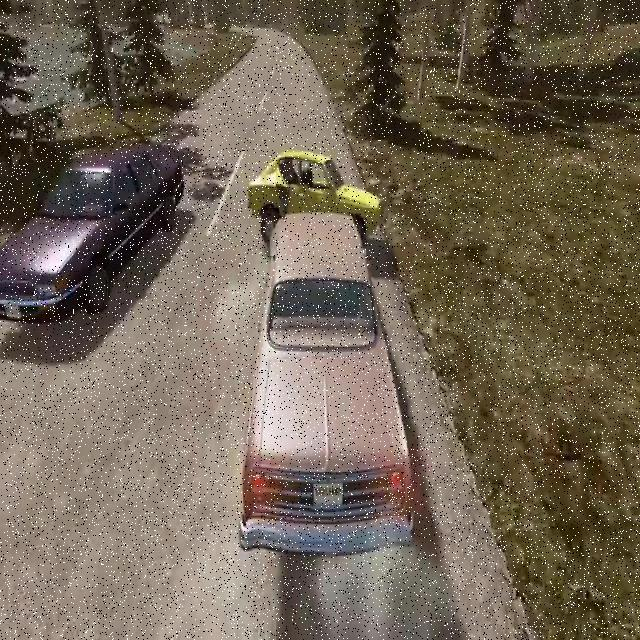low-cars-accident: (240, 137, 384, 244)
